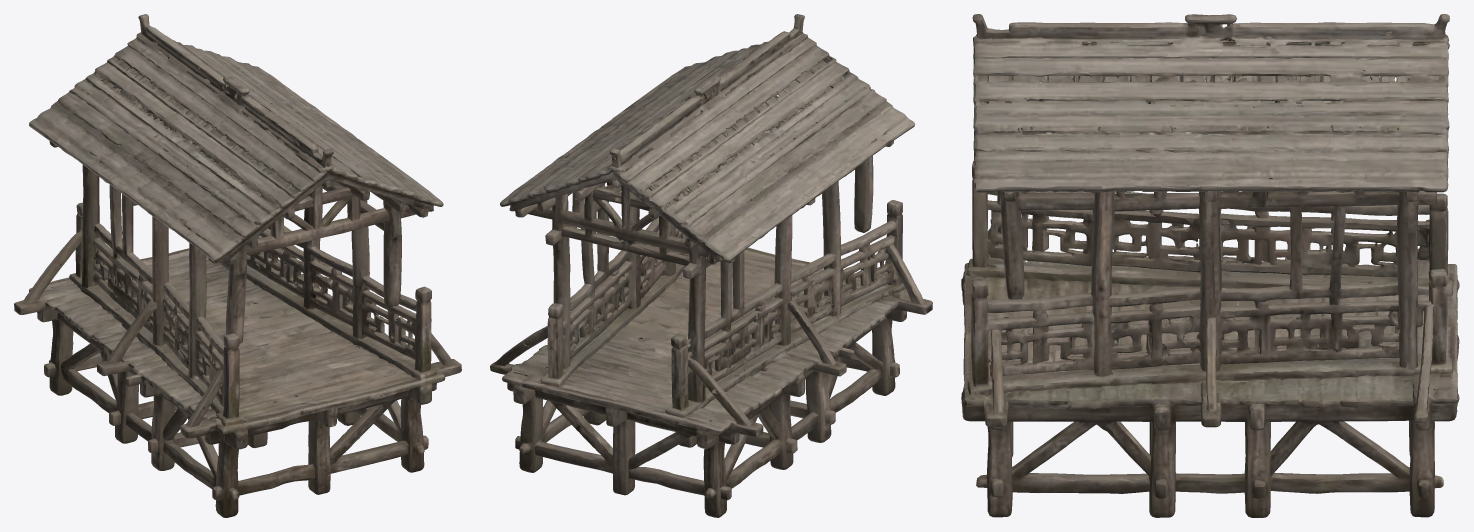
File: wooden-bridge.glb
3 views of the same model, side by side, from view 1: azimuth 30°, elevation 25°; view 2: azimuth 150°, elevation 25°; view 3: azimuth 270°, elevation 25° (orthographic). The views are drawn at different scales.
Parts seen in each view (by area): view 1: geometry_0; view 2: geometry_0; view 3: geometry_0.
Boxes of the visible parts, x1,y1,x2,y2 form: geometry_0: (14, 14, 461, 517); geometry_0: (490, 14, 932, 517); geometry_0: (961, 14, 1459, 517).
Size of the model in its own units: 6 by 7.28 by 7.43.
Materials: 1 (1 with a texture image).
